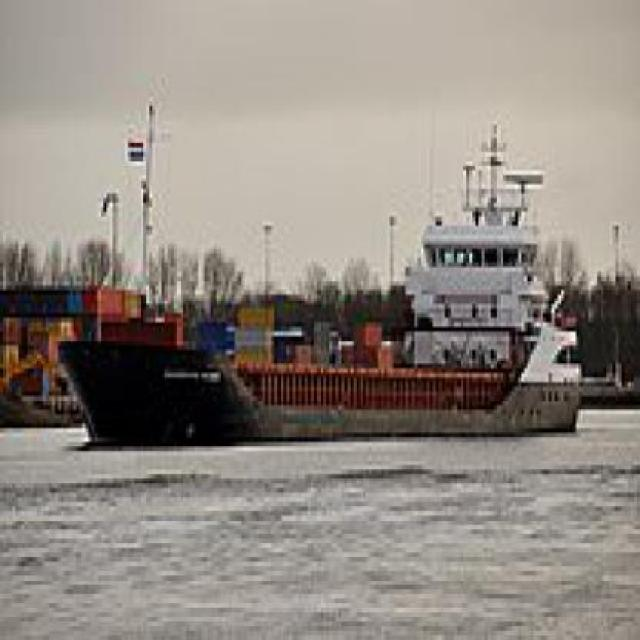container: (47, 144, 590, 453)
